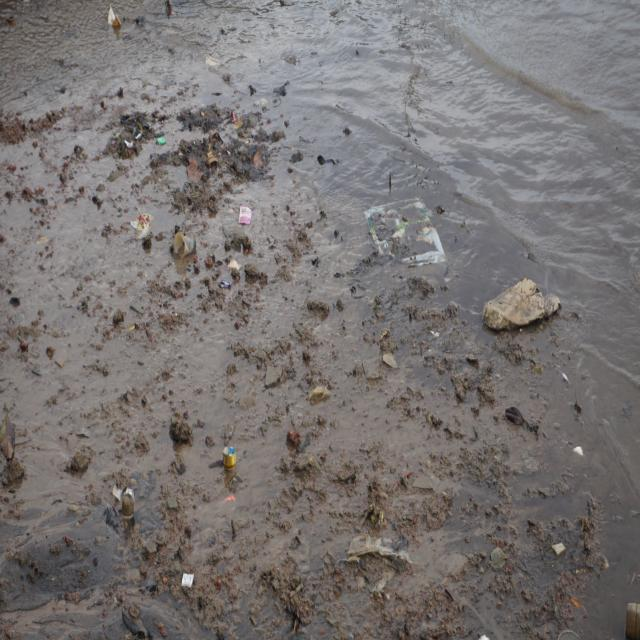Bungkus Makanan: (133, 213, 156, 240)
Bungkus Minuman: (173, 231, 198, 258), (122, 489, 136, 521)
